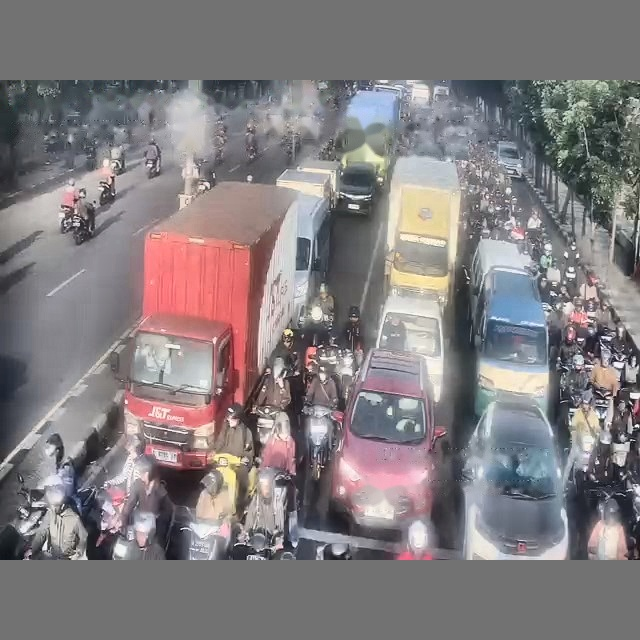Mobil: (330, 349, 446, 530), (460, 400, 568, 559), (497, 141, 523, 179)
Motor: (303, 405, 334, 509), (16, 473, 47, 540), (181, 519, 231, 560), (231, 529, 295, 560), (254, 405, 280, 445), (72, 212, 92, 245), (59, 205, 73, 233), (99, 180, 114, 205), (145, 159, 160, 179)
Truk: (111, 182, 298, 469), (385, 156, 460, 307), (297, 159, 339, 208)
